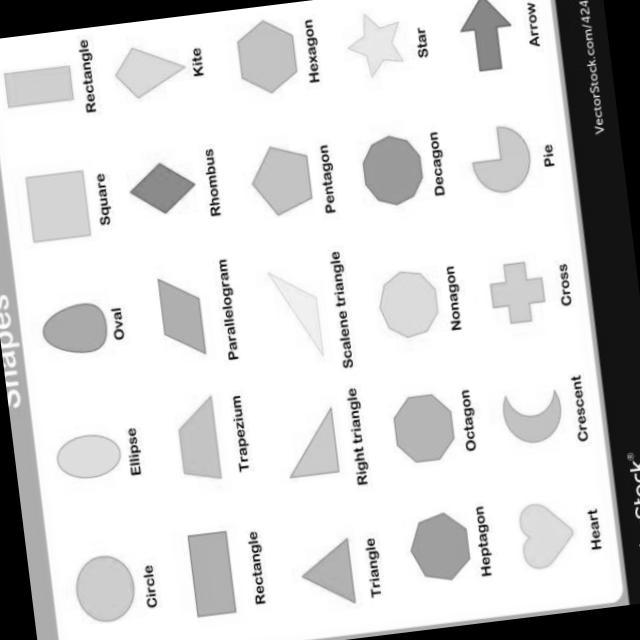circle: (69, 544, 161, 630), (45, 421, 149, 494)
cross: (478, 239, 574, 337)
square: (14, 160, 128, 260), (179, 522, 269, 628)
triangle: (278, 388, 382, 502), (289, 530, 387, 618)
